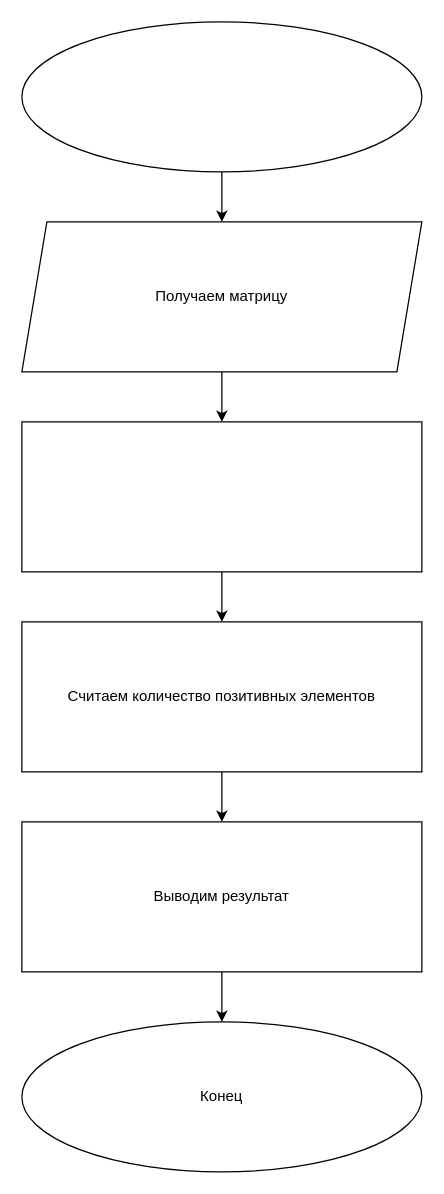
Some shapes in this 444 by 1194 pixel diagram are drawn without their labels. The box of each missing label's shape, as (x1, y1, x2, y2) in pixels:
Начало: (21, 21, 422, 172)
Считаем сумма позитивных элементов: (21, 421, 422, 572)
